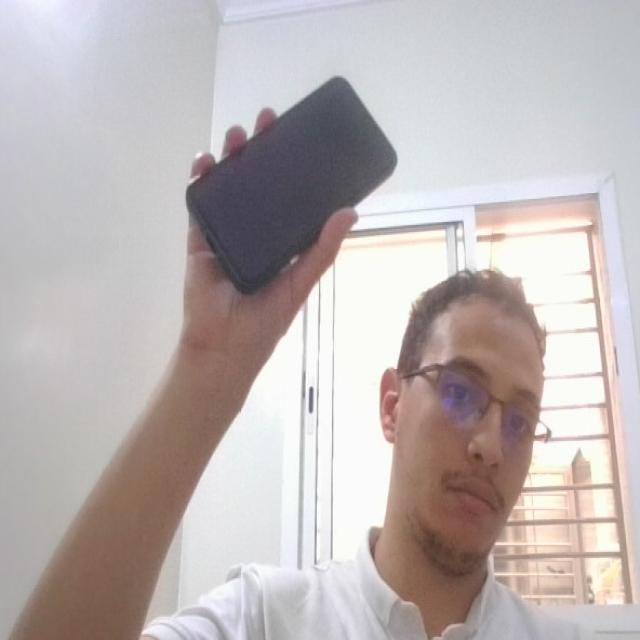phone: (181, 66, 403, 294)
